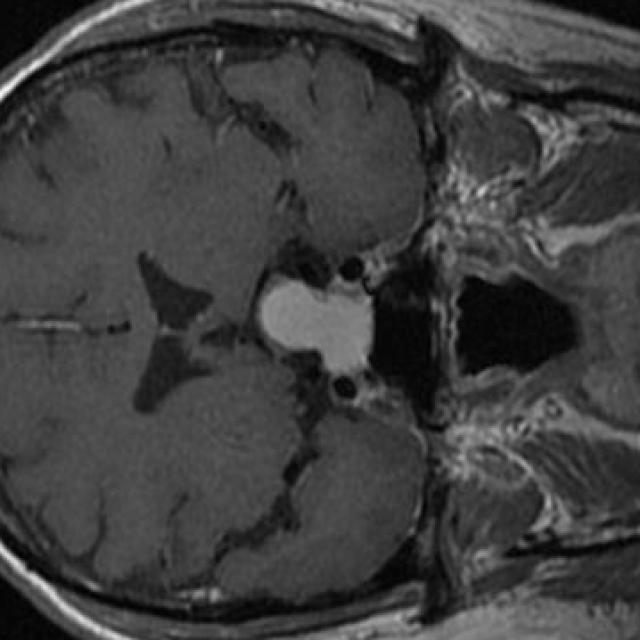pituitary: (258, 278, 374, 376)
